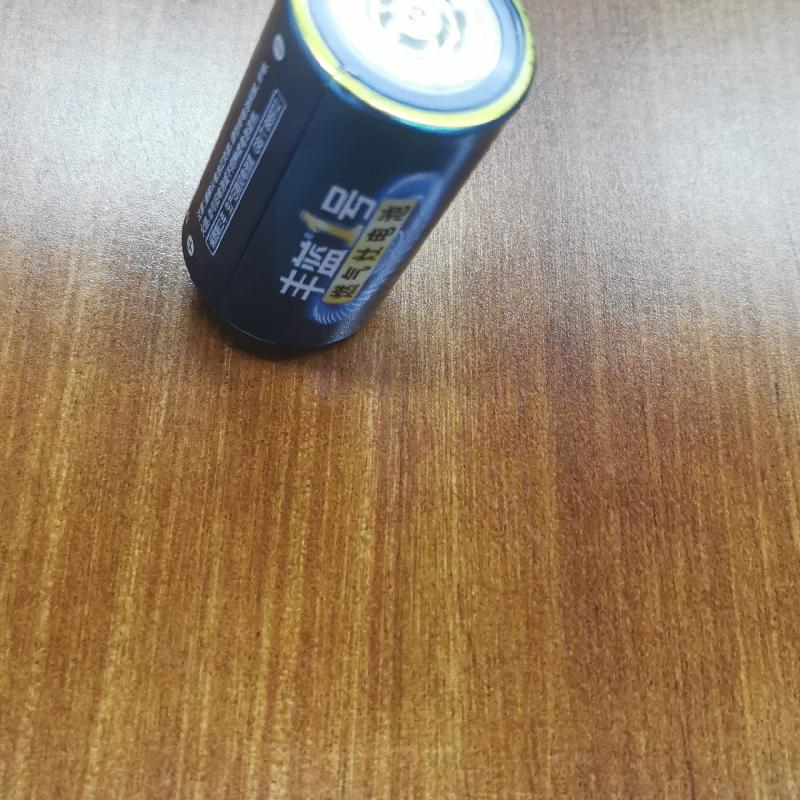battery: (176, 3, 537, 357)
